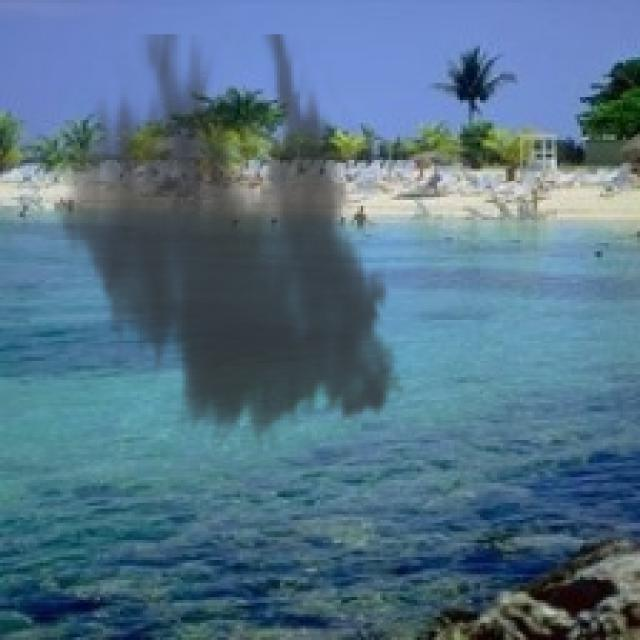smoke: (49, 34, 414, 457)
